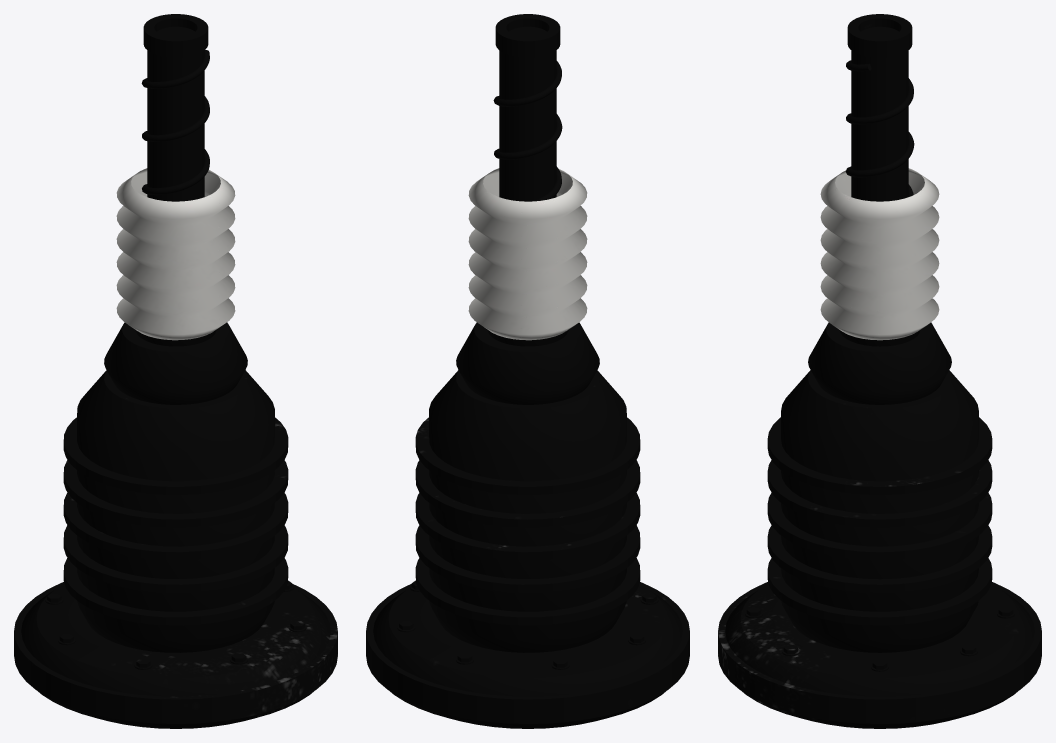
The picture shows the model from 3 angles, left to right: view 1: azimuth 30°, elevation 25°; view 2: azimuth 150°, elevation 25°; view 3: azimuth 270°, elevation 25°; orthographic projection.
Parts seen in each view (by area): view 1: TL04_Static_Titanium, TL04_Static_AnodizedBlack, TL04_Static_DustBellows, TL04_Static_ChromeHydraulic; view 2: TL04_Static_Titanium, TL04_Static_AnodizedBlack, TL04_Static_DustBellows, TL04_Static_ChromeHydraulic; view 3: TL04_Static_Titanium, TL04_Static_AnodizedBlack, TL04_Static_DustBellows, TL04_Static_ChromeHydraulic.
Boxes of the visible parts, box(x1,y1,x2,y2) form: TL04_Static_Titanium: box(14, 14, 337, 728); TL04_Static_AnodizedBlack: box(77, 322, 274, 652); TL04_Static_DustBellows: box(116, 168, 235, 340); TL04_Static_ChromeHydraulic: box(141, 50, 209, 195); TL04_Static_Titanium: box(366, 14, 689, 728); TL04_Static_AnodizedBlack: box(429, 322, 626, 652); TL04_Static_DustBellows: box(468, 168, 587, 340); TL04_Static_ChromeHydraulic: box(493, 61, 562, 201); TL04_Static_Titanium: box(718, 14, 1041, 728); TL04_Static_AnodizedBlack: box(781, 322, 978, 652); TL04_Static_DustBellows: box(820, 168, 939, 340); TL04_Static_ChromeHydraulic: box(845, 60, 914, 196).
Size of the model in its own units: 0.36 by 0.79 by 0.36.
Materials: 4 (4 with a texture image).
